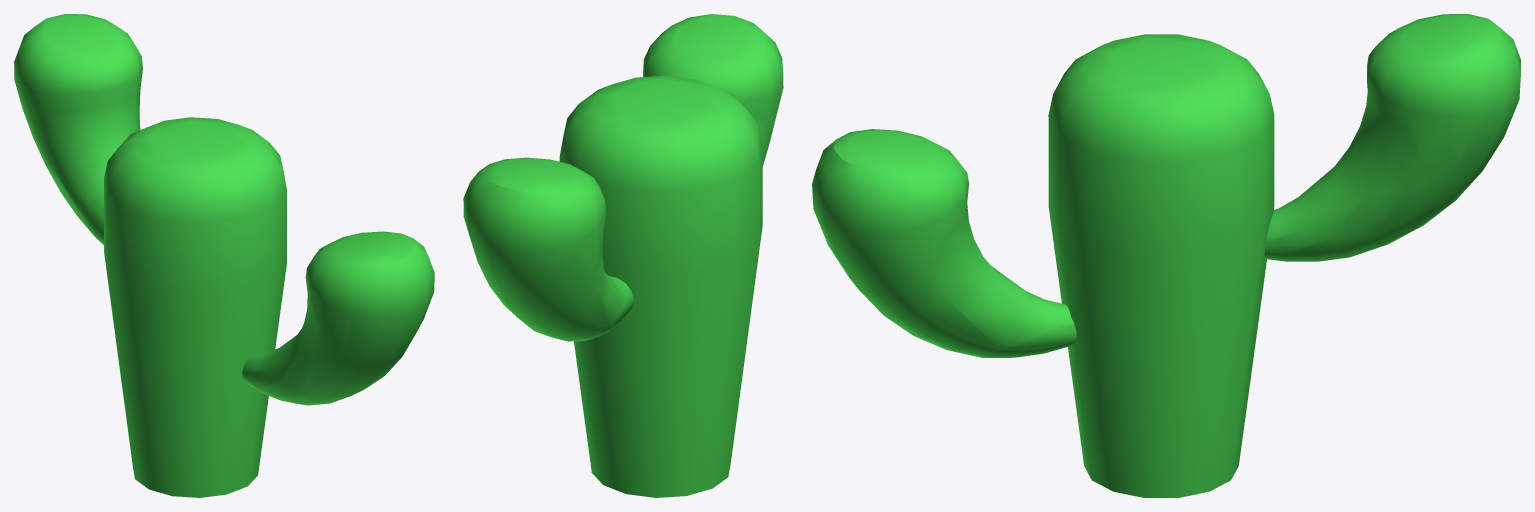
File: Cactus001.fbx
3 renders of one model, left to right at view 1: azimuth 30°, elevation 25°; view 2: azimuth 150°, elevation 25°; view 3: azimuth 270°, elevation 25°, orthographic. The views are drawn at different scales.
Visible parts, largest first — view 1: Cactus001; view 2: Cactus001; view 3: Cactus001.
Part boxes in pixels (x1,y1,x2,y2): Cactus001: (14,14,434,497); Cactus001: (463,14,783,497); Cactus001: (812,14,1520,497).
Size of the model in its own units: 175 by 302 by 445.
